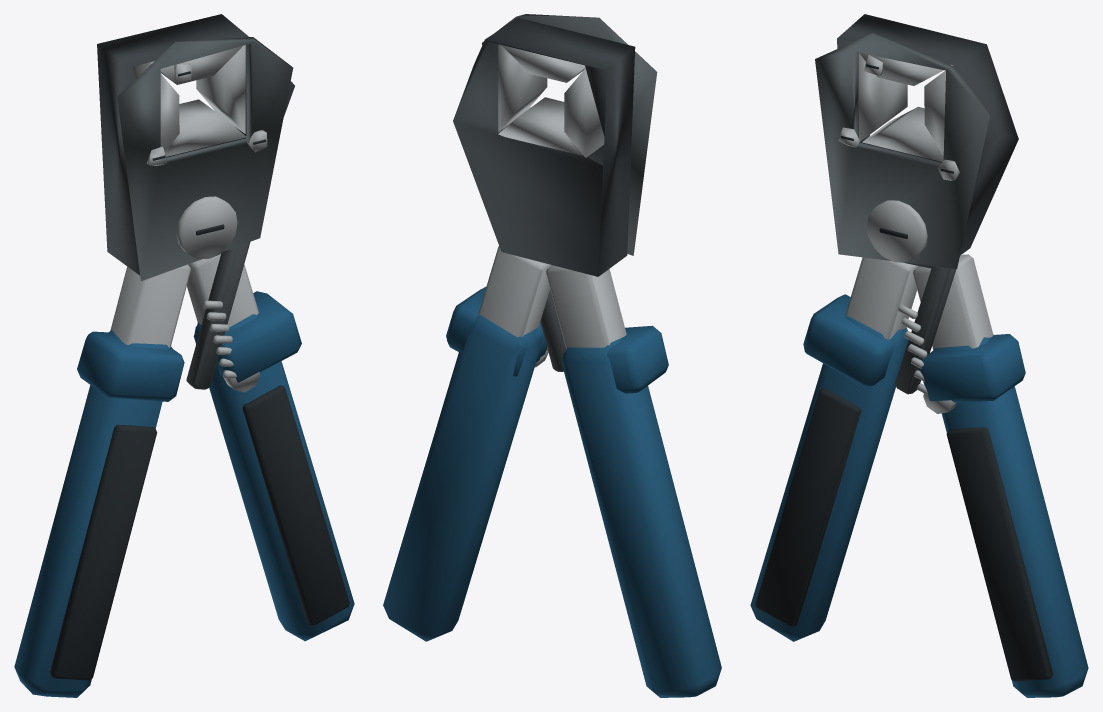
File: crimper_default.low.glb
3 views of the same model, side by side, from view 1: azimuth 30°, elevation 25°; view 2: azimuth 150°, elevation 25°; view 3: azimuth 330°, elevation 25° (orthographic).
Visible parts, largest first — view 1: node-17, node-6, node-7, node-13, node-12, node-16, node-15 · Original material, node-8, node-5, node-35 · Original material, node-14, node-38 (+1 smaller); view 2: node-16, node-6, node-12, node-15 · Original material, node-5, node-17, node-11, node-8, node-14, node-38; view 3: node-17, node-12, node-13, node-7, node-6, node-16, node-15 · Original material, node-14, node-8, node-35 · Original material, node-5, node-11 (+1 smaller).
Part boxes in pixels (box(x1,y1,x2,y2)): node-17: box(117, 37, 293, 281); node-6: box(14, 330, 172, 697); node-7: box(50, 424, 157, 680); node-13: box(242, 385, 349, 625); node-12: box(193, 306, 354, 641); node-16: box(97, 14, 294, 275); node-15 · Original material: box(133, 45, 267, 165); node-8: box(77, 331, 184, 401); node-5: box(110, 264, 190, 347); node-35 · Original material: box(176, 196, 259, 392); node-14: box(195, 291, 301, 382); node-38: box(186, 242, 250, 389); node-16: box(453, 18, 635, 276); node-6: box(561, 337, 721, 697); node-12: box(383, 315, 542, 641); node-15 · Original material: box(498, 44, 604, 157); node-5: box(546, 265, 626, 348); node-17: box(482, 14, 657, 255); node-11: box(478, 246, 551, 337); node-8: box(562, 325, 668, 393); node-14: box(446, 287, 546, 376); node-38: box(540, 289, 566, 371); node-17: box(815, 33, 989, 268); node-12: box(933, 334, 1088, 697); node-13: box(946, 427, 1053, 681); node-7: box(755, 387, 861, 627); node-6: box(750, 316, 908, 641); node-16: box(837, 14, 1018, 268); node-15 · Original material: box(838, 52, 959, 180); node-14: box(919, 334, 1025, 402); node-8: box(803, 294, 907, 387); node-35 · Original material: box(866, 200, 956, 413); node-5: box(845, 257, 918, 339); node-11: box(913, 254, 993, 349).
Size of the model in its own units: 0.6109 by 1.14 by 0.1375.
